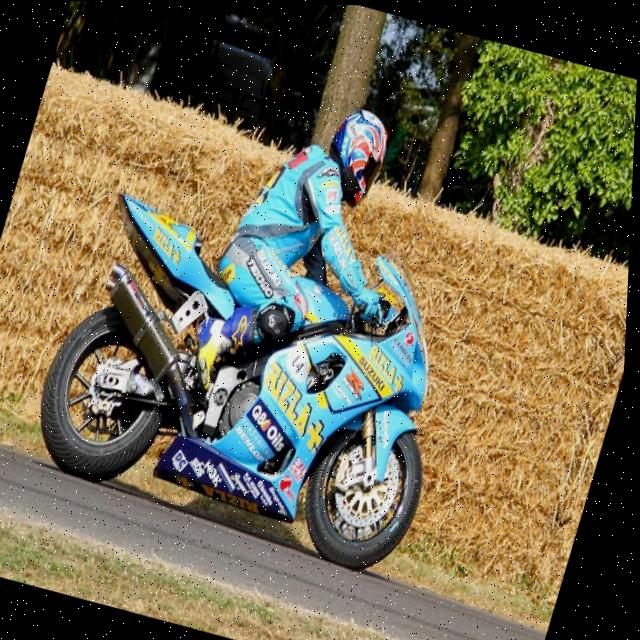motorcycle: (10, 175, 496, 590)
